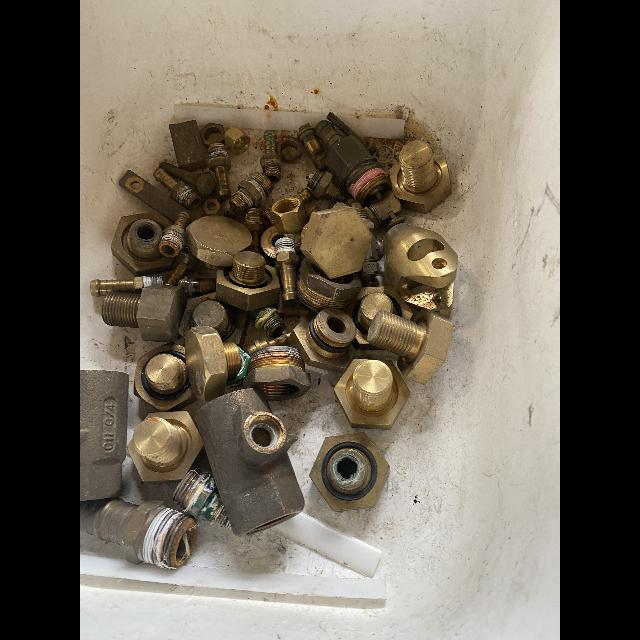Brass: (194, 389, 304, 535), (382, 222, 458, 316), (367, 307, 454, 385), (309, 432, 390, 512), (80, 370, 129, 501), (80, 498, 163, 566), (301, 203, 373, 279), (334, 358, 410, 429), (128, 411, 203, 482), (103, 284, 186, 342), (315, 119, 381, 191), (389, 140, 452, 214), (133, 342, 197, 412), (119, 170, 197, 226), (185, 326, 242, 401), (289, 311, 355, 374), (111, 211, 173, 276), (242, 345, 310, 400), (186, 215, 252, 267), (298, 260, 361, 311), (215, 265, 281, 311), (356, 175, 406, 229), (345, 286, 413, 320), (326, 447, 372, 494), (175, 468, 215, 517), (158, 161, 215, 195), (169, 120, 206, 171), (179, 292, 216, 338), (146, 353, 187, 394), (313, 309, 356, 348), (358, 293, 397, 330), (165, 243, 198, 286), (297, 123, 327, 169), (270, 197, 306, 234), (308, 171, 348, 203), (275, 251, 299, 303), (191, 300, 228, 333), (154, 168, 191, 201), (232, 251, 266, 286), (260, 226, 294, 258), (90, 277, 144, 297), (260, 131, 281, 182), (247, 332, 293, 355), (209, 157, 232, 199), (245, 208, 266, 254), (162, 211, 191, 244), (227, 308, 249, 346), (276, 135, 303, 163), (224, 127, 250, 155), (354, 328, 385, 351), (238, 180, 263, 207), (199, 123, 225, 148), (178, 278, 216, 295), (350, 202, 373, 228), (361, 261, 381, 287), (365, 233, 383, 261), (229, 192, 248, 213), (293, 187, 313, 203), (203, 198, 221, 215), (281, 147, 297, 156)
